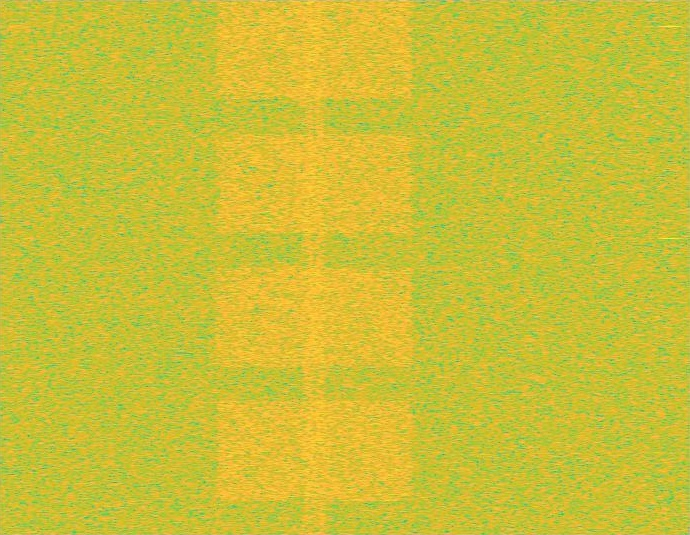5G: (211, 0, 418, 534)
DSSS: (301, 0, 329, 534)
Radar: (663, 0, 677, 534)
